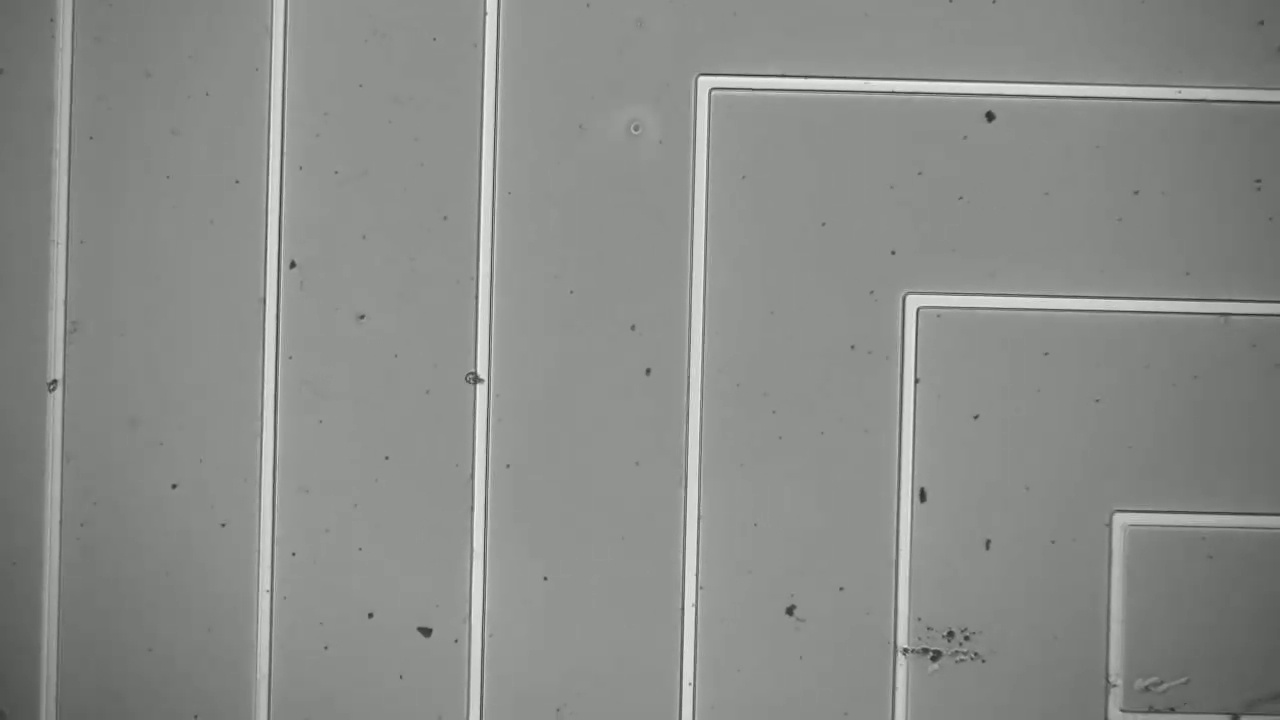stains_enbedded: (452, 368, 496, 396), (36, 372, 68, 401)
